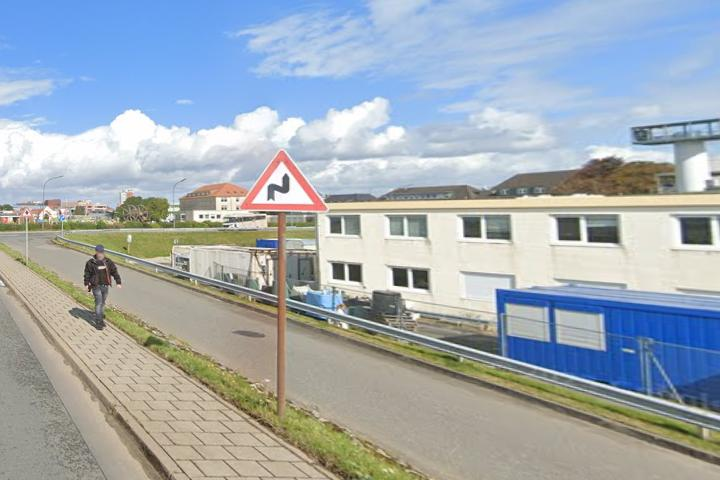traffic_sign: (237, 149, 328, 212)
